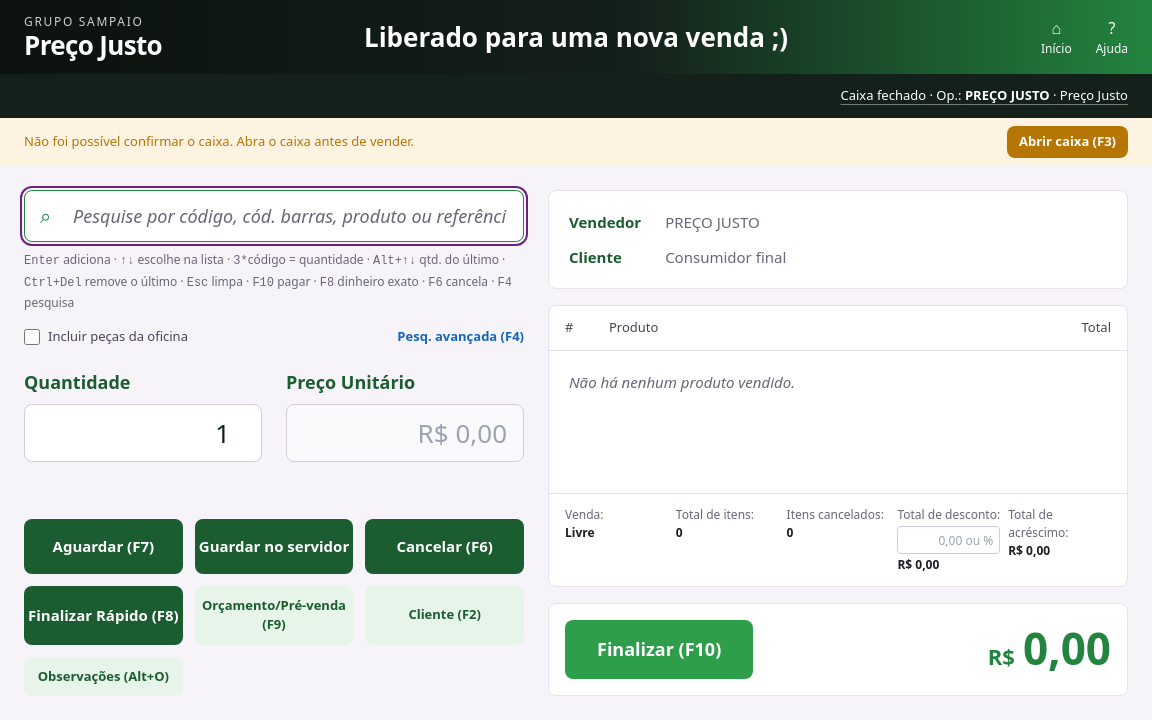
Test: G-offline-sync-M01 — a faixa de preço por quantidade chega ao balcão › três bipes do mesmo item: a tela pergunta o preço de 3, mostra R$ 9,99 e cobra R$ 9,99
The width and height of the screenshot is (1152, 720).
Type "7890000000303" into the field labelled "Pesquise por código, cód. barras, produto ou referência" at point(274, 216), box [24,190,524,242]
Press Enter in the field named "Pesquise por código", box [24,190,524,242]
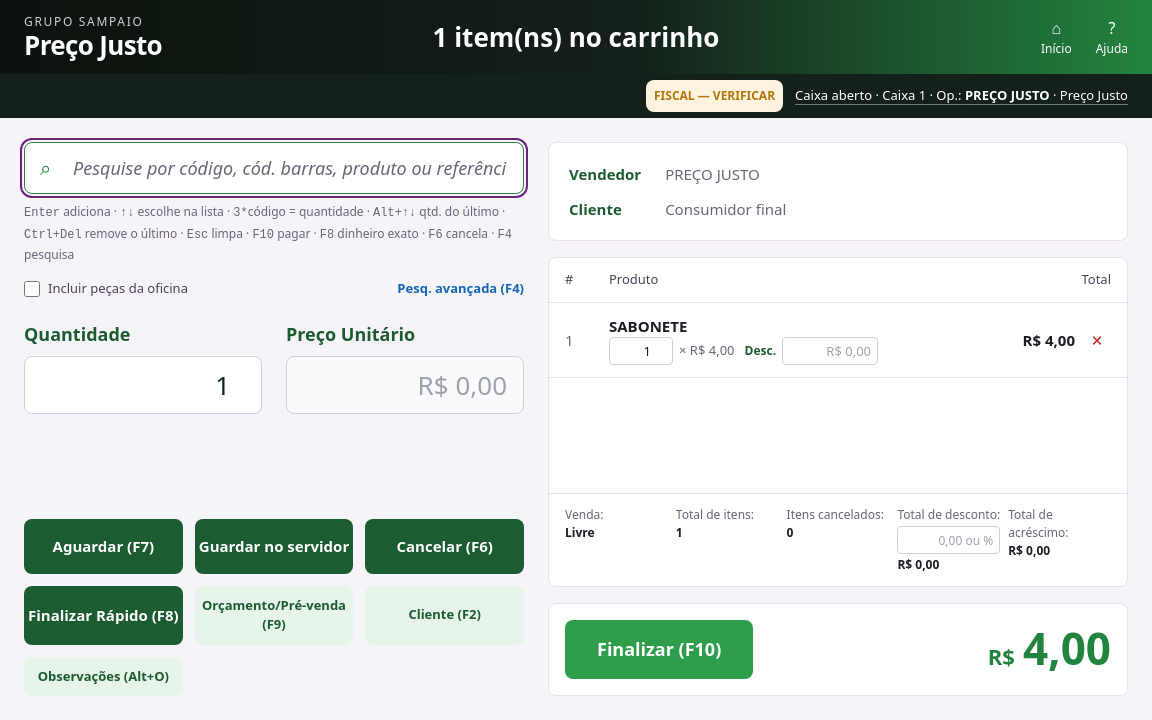
Type "7890000000303" into the field labelled "Pesquise por código, cód. barras, produto ou referência" at point(274, 168), box [24,142,524,194]
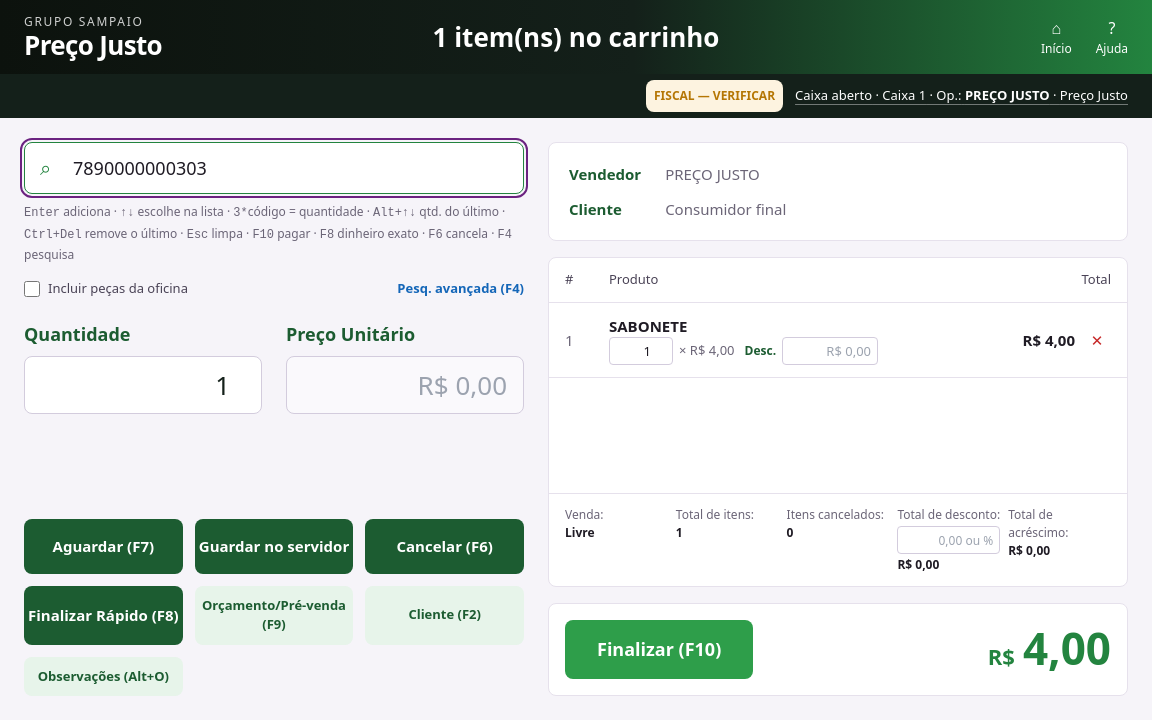
Press Enter in the field named "Pesquise por código", box [24,142,524,194]
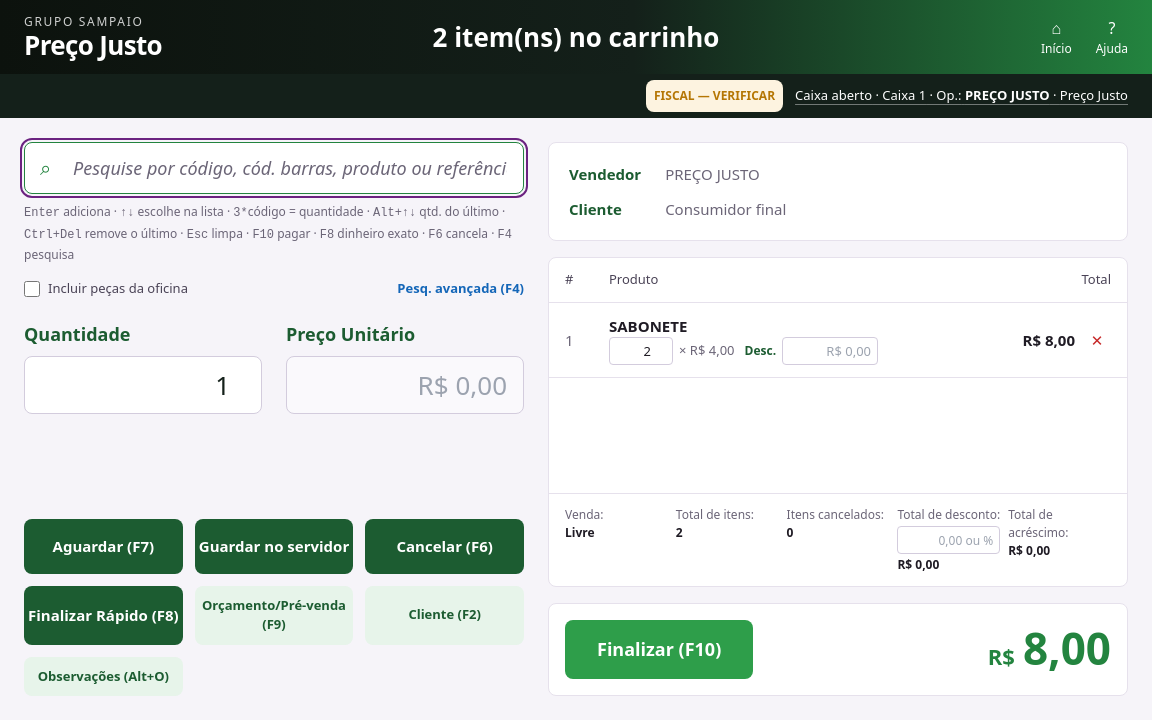
Type "7890000000303" into the field labelled "Pesquise por código, cód. barras, produto ou referência" at point(274, 168), box [24,142,524,194]
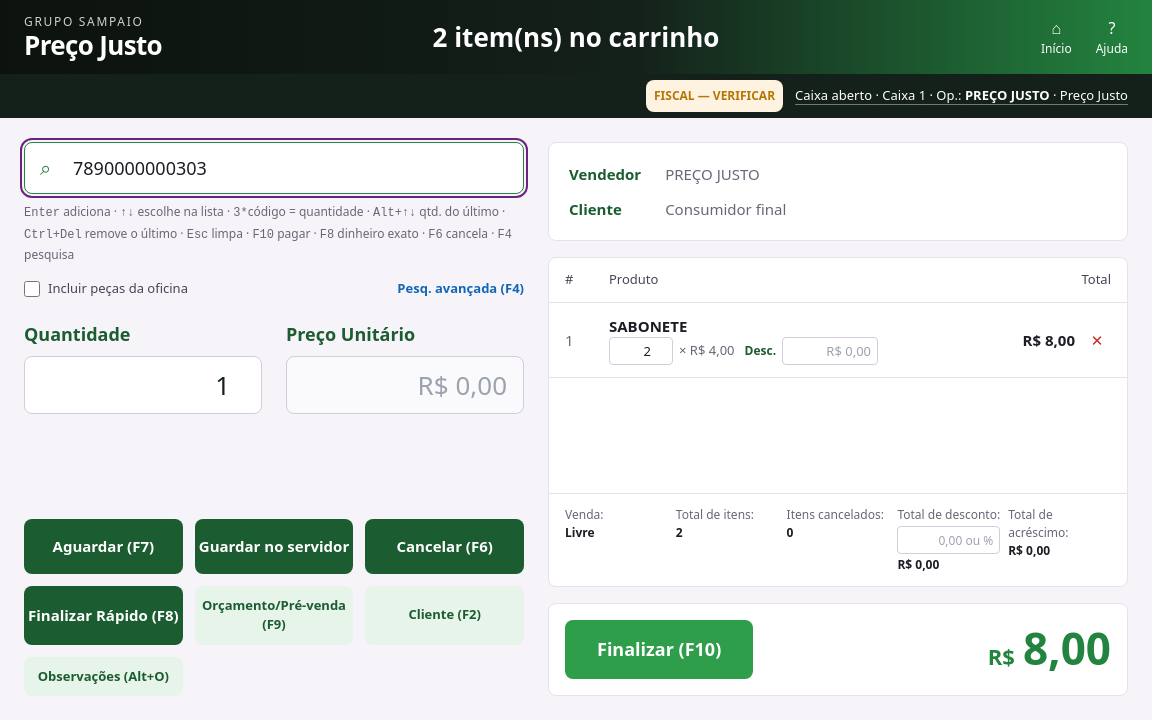
Press Enter in the field named "Pesquise por código", box [24,142,524,194]
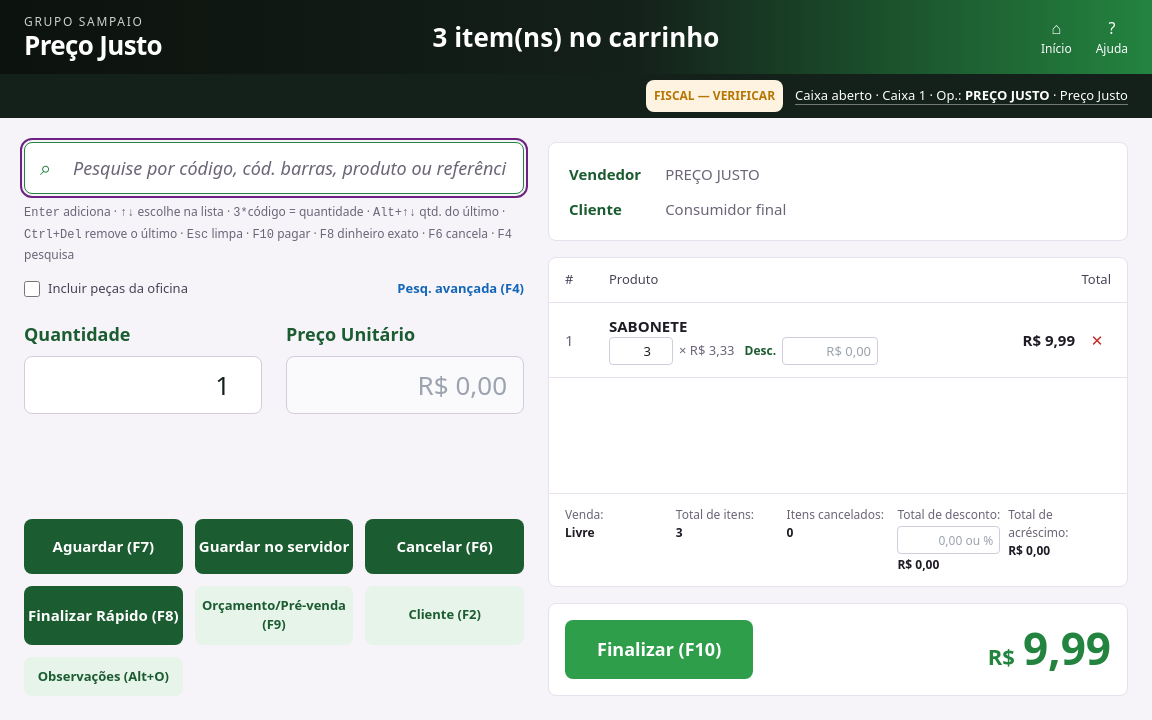
Expected: the text "R$ 9,99" is shown, [1023,330,1075,350]
Press F8 in the field labelled "Pesquise por código, cód. barras, produto ou referência", box [24,142,524,194]
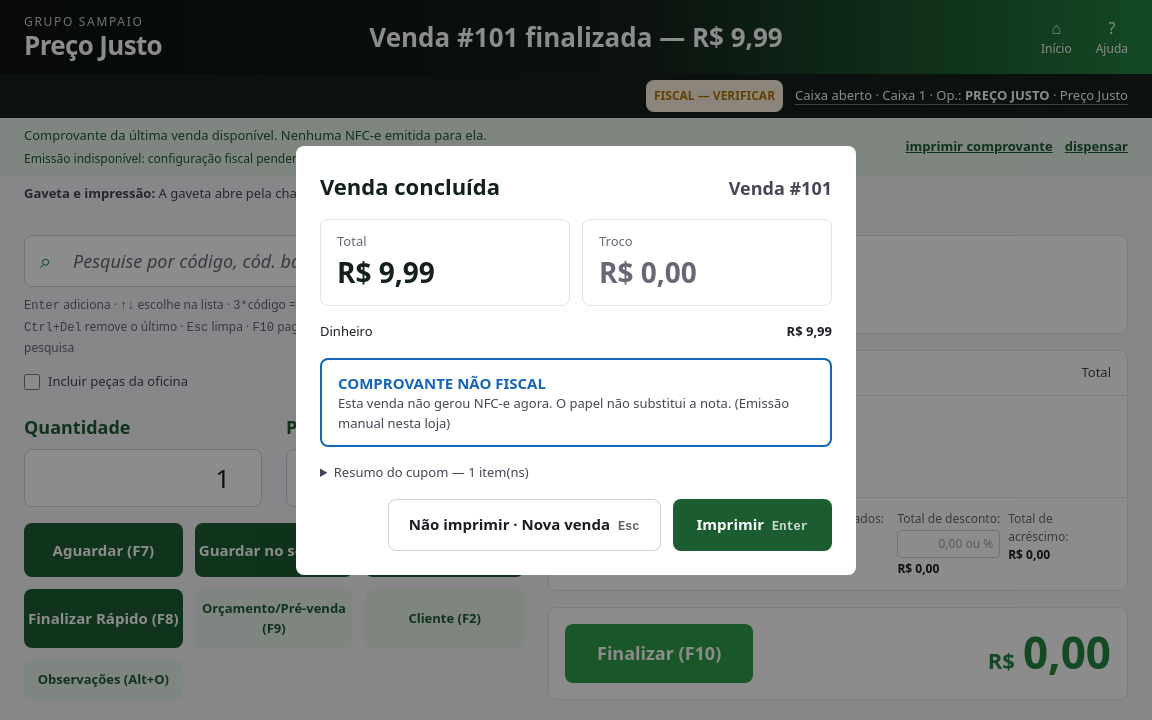
Expected: the dialog "Venda concluída" is shown
